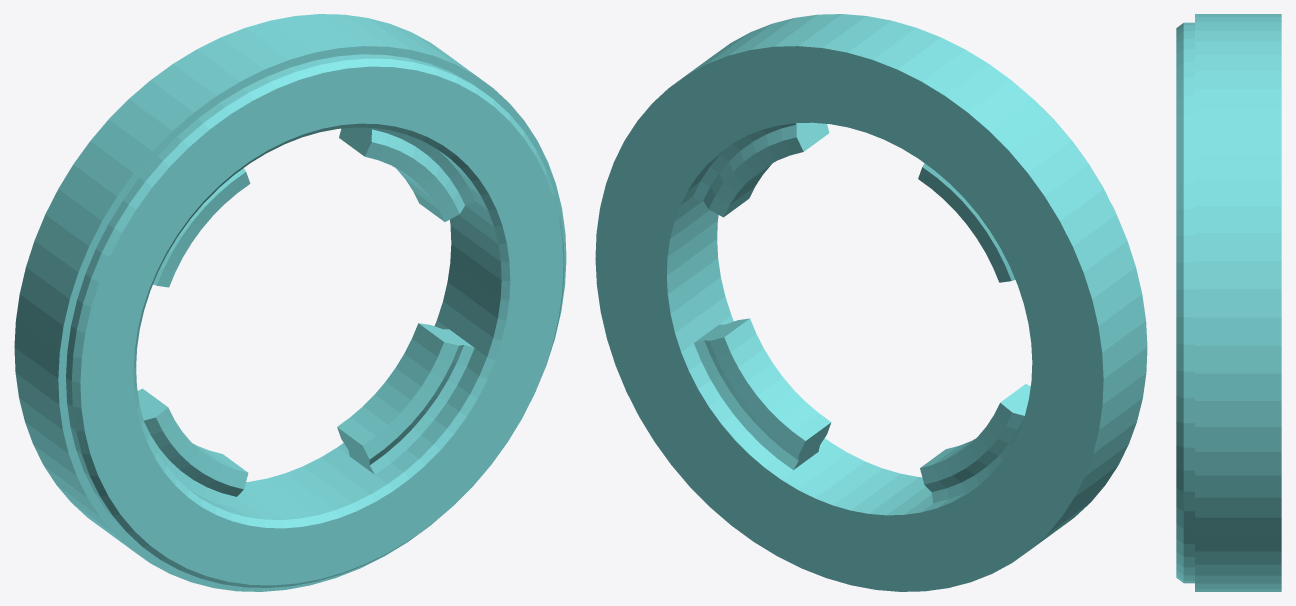
3 renders of one model, left to right at view 1: azimuth 30°, elevation 25°; view 2: azimuth 150°, elevation 25°; view 3: azimuth 270°, elevation 25°, orthographic.
Visible parts, largest first — view 1: 681; view 2: 681; view 3: 681.
Boxes of the visible parts, left/top/right/bottom form: 681: left=14, top=14, right=566, bottom=591; 681: left=595, top=14, right=1147, bottom=591; 681: left=1176, top=14, right=1281, bottom=591.
Bounding box in the file's own units: 863 × 863 × 157.
